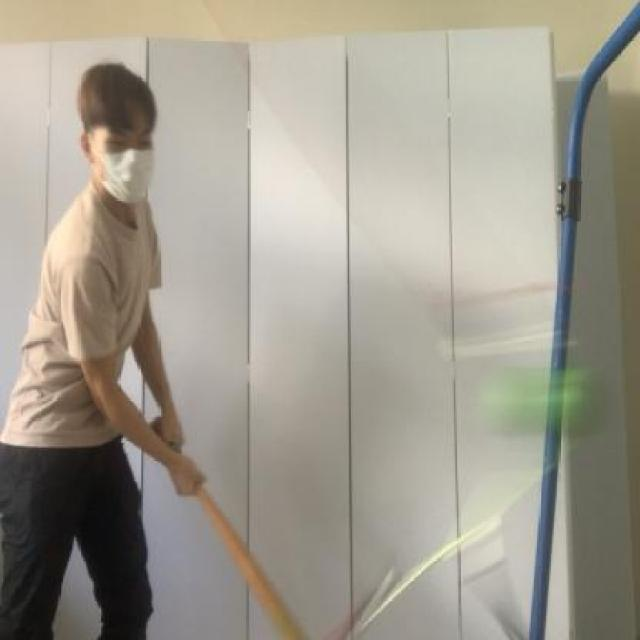baseball: (462, 338, 613, 447)
